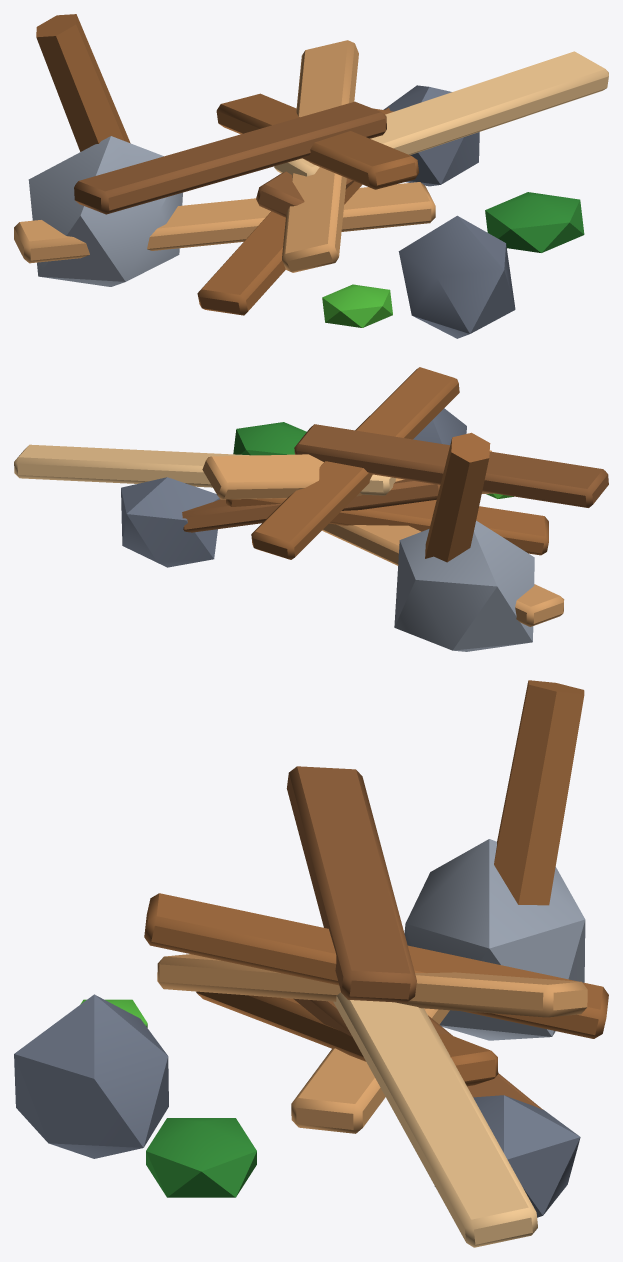
Rendered from home_ruin.fbx.
The picture shows the model from 3 angles, top to bottom: view 1: azimuth 30°, elevation 25°; view 2: azimuth 150°, elevation 25°; view 3: azimuth 270°, elevation 25°; orthographic projection. The views are drawn at different scales.
Parts seen in each view (by area): view 1: home_ruin; view 2: home_ruin; view 3: home_ruin.
Part boxes in pixels (<box>): home_ruin: <box>14,14,608,338</box>; home_ruin: <box>14,367,608,651</box>; home_ruin: <box>14,680,608,1247</box>.
Bounding box in the file's own units: 0.9723 × 0.4052 × 0.6369.
